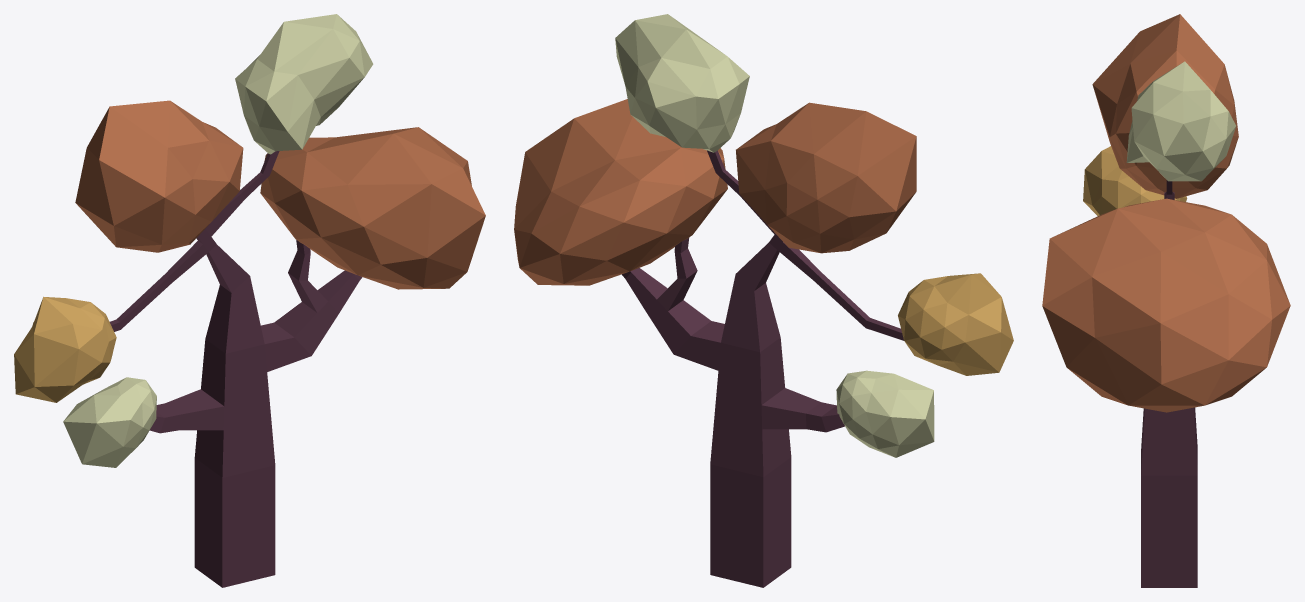
The model's file is tree_01.fbx.
The picture shows the model from 3 angles, left to right: view 1: azimuth 30°, elevation 25°; view 2: azimuth 150°, elevation 25°; view 3: azimuth 270°, elevation 25°; orthographic projection. The views are drawn at different scales.
Visible parts, largest first — view 1: Cube; view 2: Cube; view 3: Cube.
Boxes of the visible parts, bbox=[...] form: Cube: bbox=[14, 14, 485, 587]; Cube: bbox=[514, 14, 1013, 587]; Cube: bbox=[1042, 14, 1290, 587].
Bounding box in the file's own units: 899 × 964 × 401.
